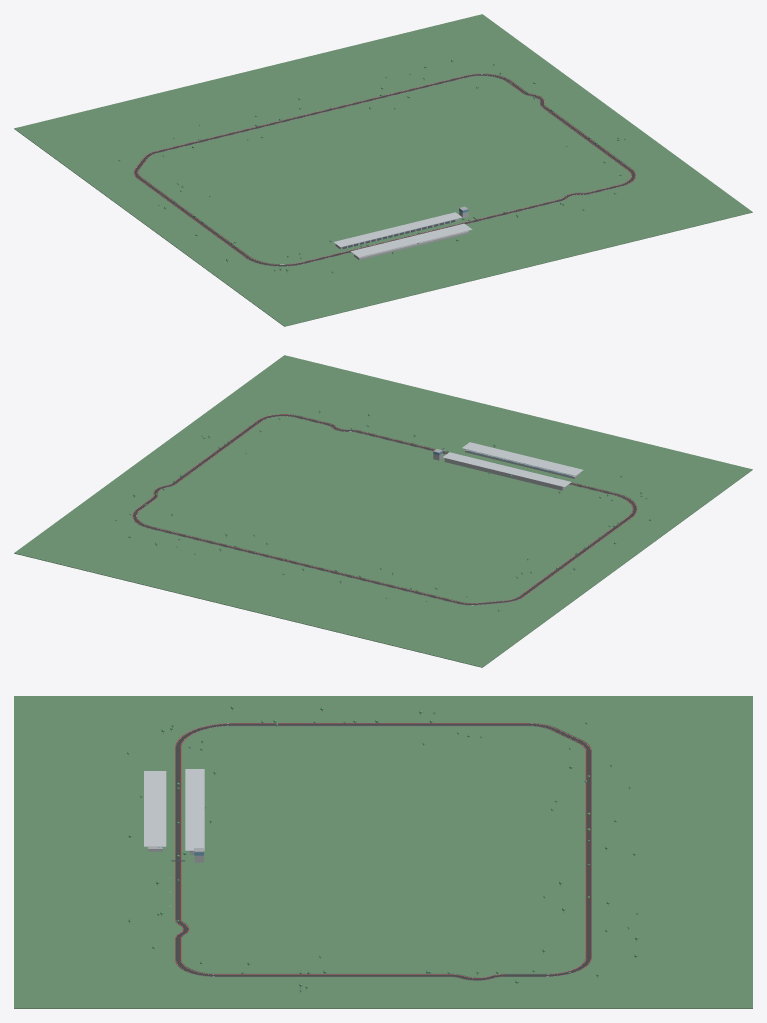
The model's file is monzon.glb.
The picture shows the model from 3 angles, top to bottom: view 1: azimuth 30°, elevation 25°; view 2: azimuth 150°, elevation 25°; view 3: azimuth 270°, elevation 25°; orthographic projection. The views are drawn at different scales.
Parts seen in each view (by area): view 1: Terreno-monzon, Asfalto-monzon, Techo-tribuna, Techo-boxes, Proteccion--1, Proteccion-1; view 2: Terreno-monzon, Asfalto-monzon, Techo-tribuna, Techo-boxes, Proteccion-1, Proteccion--1, Boxes-Monzon; view 3: Terreno-monzon, Asfalto-monzon, Techo-tribuna, Techo-boxes, Piano-rojo--1, Proteccion--1, Piano-rojo-1, Proteccion-1.
Boxes of the visible parts, bbox=[...] form: Terreno-monzon: bbox=[14, 14, 752, 326]; Asfalto-monzon: bbox=[134, 74, 635, 266]; Techo-tribuna: bbox=[350, 223, 472, 257]; Techo-boxes: bbox=[333, 212, 462, 247]; Proteccion--1: bbox=[139, 75, 629, 264]; Proteccion-1: bbox=[134, 73, 635, 266]; Terreno-monzon: bbox=[14, 355, 752, 667]; Asfalto-monzon: bbox=[133, 414, 636, 605]; Techo-tribuna: bbox=[462, 442, 583, 475]; Techo-boxes: bbox=[442, 452, 571, 487]; Proteccion-1: bbox=[133, 414, 636, 605]; Proteccion--1: bbox=[138, 416, 630, 603]; Boxes-Monzon: bbox=[444, 458, 567, 490]; Terreno-monzon: bbox=[14, 696, 752, 1008]; Asfalto-monzon: bbox=[175, 723, 591, 980]; Techo-tribuna: bbox=[144, 771, 166, 846]; Techo-boxes: bbox=[185, 769, 204, 850]; Piano-rojo--1: bbox=[180, 729, 586, 978]; Proteccion--1: bbox=[182, 725, 584, 977]; Piano-rojo-1: bbox=[175, 723, 591, 978]; Proteccion-1: bbox=[175, 723, 590, 980].
Size of the model in its own units: 2222 by 38.4 by 2222.
